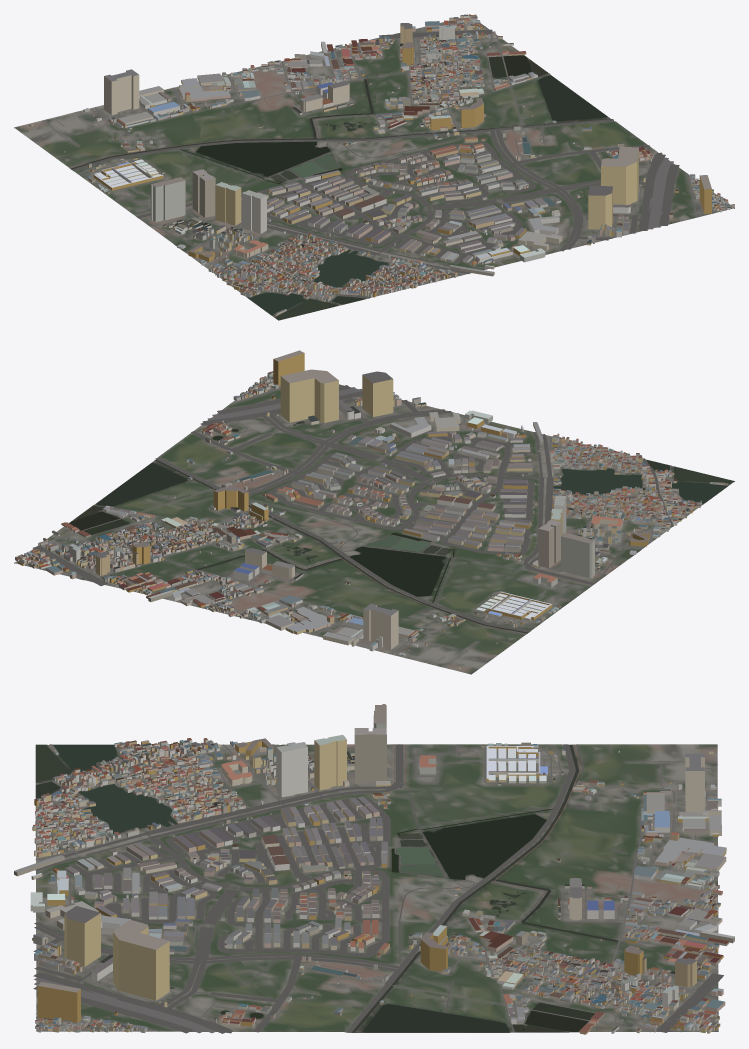
The picture shows the model from 3 angles, top to bottom: view 1: azimuth 30°, elevation 25°; view 2: azimuth 150°, elevation 25°; view 3: azimuth 270°, elevation 25°; orthographic projection. The views are drawn at different scales.
Visible parts, largest first — view 1: buildings, ground, roads, water; view 2: buildings, ground, roads, water; view 3: ground, buildings, roads, water.
Boxes of the visible parts, bbox=[...] form: buildings: bbox=[29, 14, 734, 316]; ground: bbox=[14, 18, 734, 320]; roads: bbox=[21, 18, 715, 304]; water: bbox=[70, 55, 618, 319]; buildings: bbox=[15, 350, 727, 669]; ground: bbox=[14, 378, 734, 674]; roads: bbox=[24, 382, 694, 669]; water: bbox=[69, 421, 733, 633]; ground: bbox=[35, 744, 718, 1032]; buildings: bbox=[14, 704, 734, 1034]; roads: bbox=[33, 744, 723, 1033]; water: bbox=[36, 744, 712, 1032].
Size of the model in its own units: 1417 by 121 by 1482.
